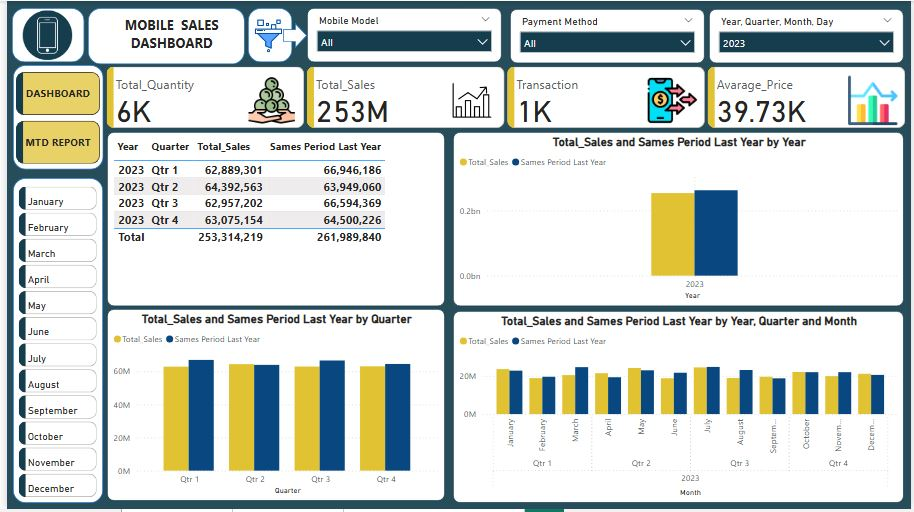

The page's visual inventory and layout, read from the dashboard file:
{"tool":"powerbi","page":{"name":"SAME PERIOD LAST YEAR","canvas":[1280,720],"ordinal":2},"visuals":[{"type":"shape","box":[7.1,10,102.5,76.9],"z":0},{"type":"image","box":[11.4,8.5,91.1,79.7],"z":1000},{"type":"shape","box":[8.5,91.1,128.1,148.1],"z":2000},{"type":"cardVisual","fields":{"Data":["Sales_Data.Total_Quantity","Sales_Data.Total_Sales","Sales_Data.Transaction","Sales_Data.Avarage_Price"]},"box":[136.1,87.9,1143.8,97.8],"z":3000},{"type":"slicer","fields":{"Values":["Sales_Data.Mobile Model"]},"box":[425.7,10,276.2,76.9],"z":4000},{"type":"slicer","fields":{"Values":["Sales_Data.Payment Method"]},"box":[713.3,11.4,276.2,76.9],"z":5000},{"type":"slicer","fields":{"Values":["Calender.Dates.Variation.Date Hierarchy.Year","Calender.Dates.Variation.Date Hierarchy.Quarter","Calender.Dates.Variation.Date Hierarchy.Month","Calender.Dates.Variation.Date Hierarchy.Day"]},"box":[995.2,11.4,276.2,76.9],"z":6000},{"type":"shape","box":[341.7,10,62.6,76.9],"z":7000},{"type":"image","box":[341.7,8.5,58.4,82.6],"z":8000},{"type":"shape","box":[391.5,31.3,34.2,35.6],"z":9000},{"type":"shape","box":[115.3,10,222.1,79.7],"z":10000},{"type":"textbox","box":[153.8,11.4,160.9,75.5],"z":11000},{"type":"shape","box":[8.5,250.9,127.6,460.6],"z":13000},{"type":"advancedSlicerVisual","fields":{"Values":["Calender.Dates.Variation.Date Hierarchy.Month"]},"box":[11.3,258,121.9,452.1],"z":14000},{"type":"tableEx","fields":{"Values":["Calender.Dates.Variation.Date Hierarchy.Year","Calender.Dates.Variation.Date Hierarchy.Quarter","Sales_Data.Total_Sales","Sales_Data.Sames Period Last Year"]},"box":[141.7,185.7,479.1,246.6],"z":14001},{"type":"clusteredColumnChart","fields":{"Category":["Calender.Dates.Variation.Date Hierarchy.Year","Calender.Dates.Variation.Date Hierarchy.Quarter"],"Y":["Sales_Data.Total_Sales","Sales_Data.Sames Period Last Year"]},"box":[632.1,185.7,639.2,246.6],"z":14002},{"type":"clusteredColumnChart","fields":{"Y":["Sales_Data.Total_Sales","Sales_Data.Sames Period Last Year"],"Category":["Calender.Dates.Variation.Date Hierarchy.Year","Calender.Dates.Variation.Date Hierarchy.Quarter","Calender.Dates.Variation.Date Hierarchy.Month","Calender.Dates.Variation.Date Hierarchy.Day"]},"box":[632.1,439.4,639.2,272.1],"z":14003},{"type":"clusteredColumnChart","fields":{"Category":["Calender.Dates.Variation.Date Hierarchy.Year","Calender.Dates.Variation.Date Hierarchy.Quarter"],"Y":["Sales_Data.Total_Sales","Sales_Data.Sames Period Last Year"]},"box":[141.7,436.5,479.1,272.1],"z":14004},{"type":"pageNavigator","box":[12.8,100.6,119.1,130.4],"z":14005}]}

Visuals, with their boxes in screenshot pixels (x1, y1, x2, y2), scaled from the page's 1280x720 canvas onto the 914x512 screenshot:
shape: rect(5, 7, 78, 62)
image: rect(8, 6, 73, 63)
shape: rect(6, 65, 98, 170)
cardVisual - Sales_Data.Total_Quantity x Sales_Data.Total_Sales: rect(97, 63, 913, 132)
slicer - Sales_Data.Mobile Model: rect(304, 7, 501, 62)
slicer - Sales_Data.Payment Method: rect(509, 8, 707, 63)
slicer - Calender.Dates.Variation.Date Hierarchy.Year x Calender.Dates.Variation.Date Hierarchy.Quarter: rect(711, 8, 908, 63)
shape: rect(244, 7, 289, 62)
image: rect(244, 6, 286, 65)
shape: rect(280, 22, 304, 48)
shape: rect(82, 7, 241, 64)
textbox: rect(110, 8, 225, 62)
shape: rect(6, 178, 97, 506)
advancedSlicerVisual - Calender.Dates.Variation.Date Hierarchy.Month: rect(8, 183, 95, 505)
tableEx - Calender.Dates.Variation.Date Hierarchy.Year x Calender.Dates.Variation.Date Hierarchy.Quarter: rect(101, 132, 443, 307)
clusteredColumnChart - Calender.Dates.Variation.Date Hierarchy.Year x Calender.Dates.Variation.Date Hierarchy.Quarter: rect(451, 132, 908, 307)
clusteredColumnChart - Sales_Data.Total_Sales x Sales_Data.Sames Period Last Year: rect(451, 312, 908, 506)
clusteredColumnChart - Calender.Dates.Variation.Date Hierarchy.Year x Calender.Dates.Variation.Date Hierarchy.Quarter: rect(101, 310, 443, 504)
pageNavigator: rect(9, 72, 94, 164)
